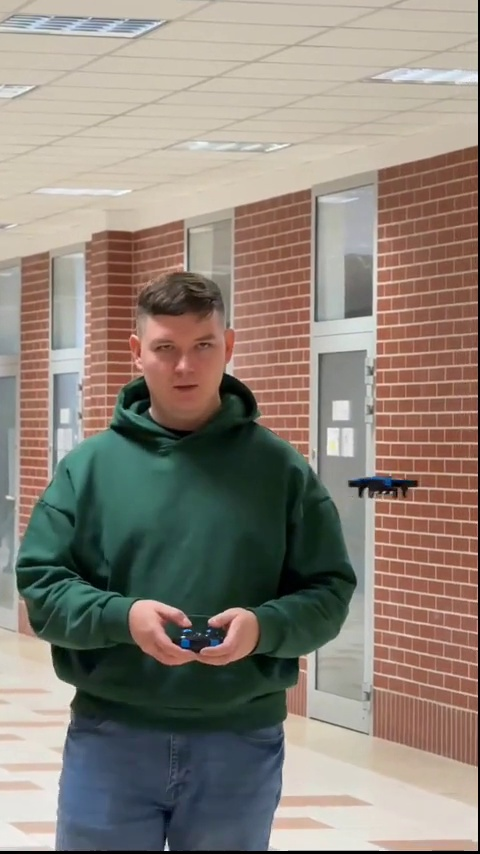drone: (345, 473, 420, 497)
no vest: (27, 272, 355, 829)
